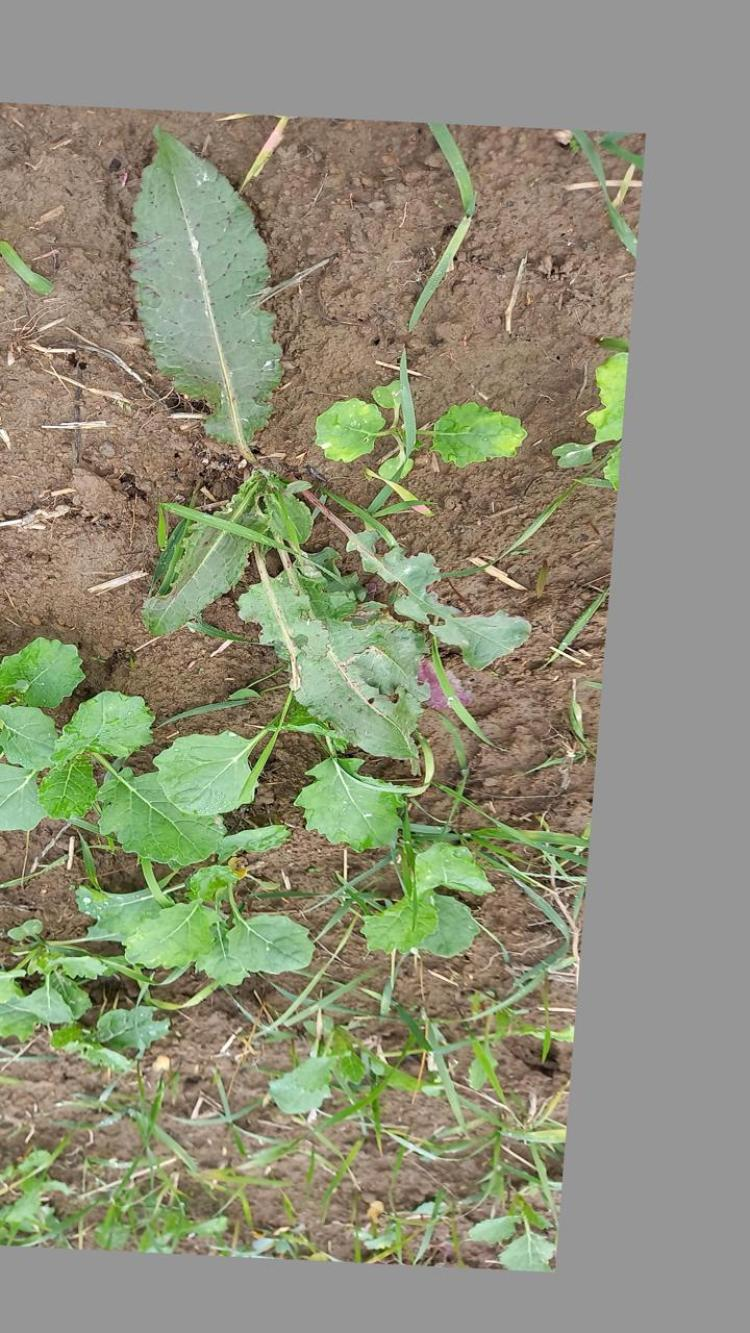zhavel: (121, 123, 537, 779)
